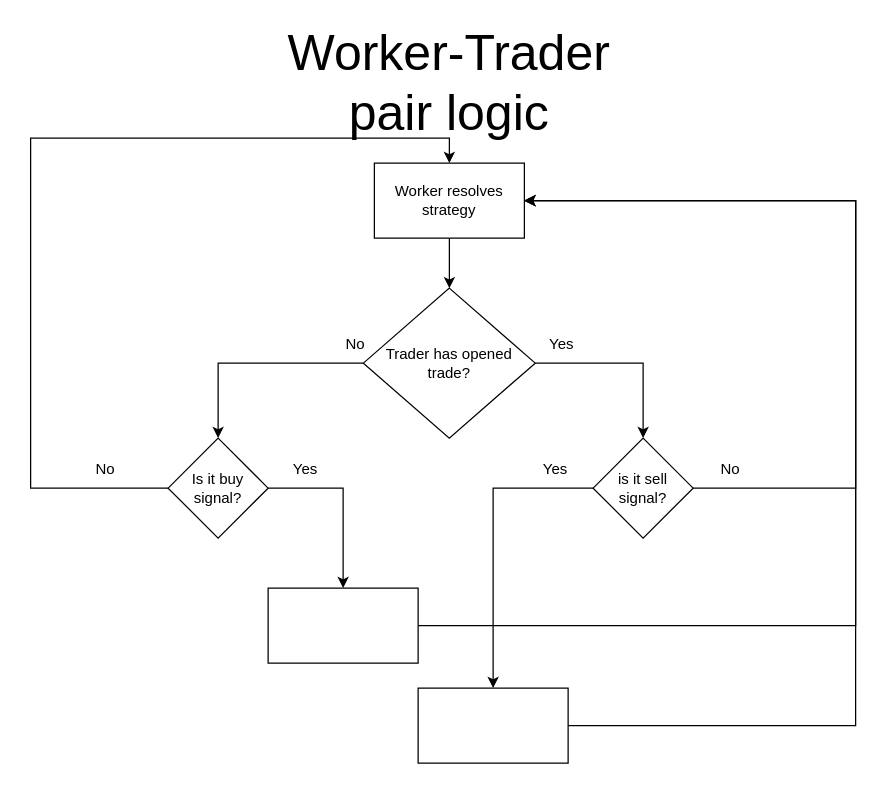
Some shapes in this 888 by 785 pixel diagram are drawn without their labels. The shapes that lost their labels are listed below. From the top down, each one's box as (x1, y1, x2, y2) in pixels, then its label:
(267, 587, 418, 663): Create new Trade object
(417, 687, 568, 763): Close Trade object
